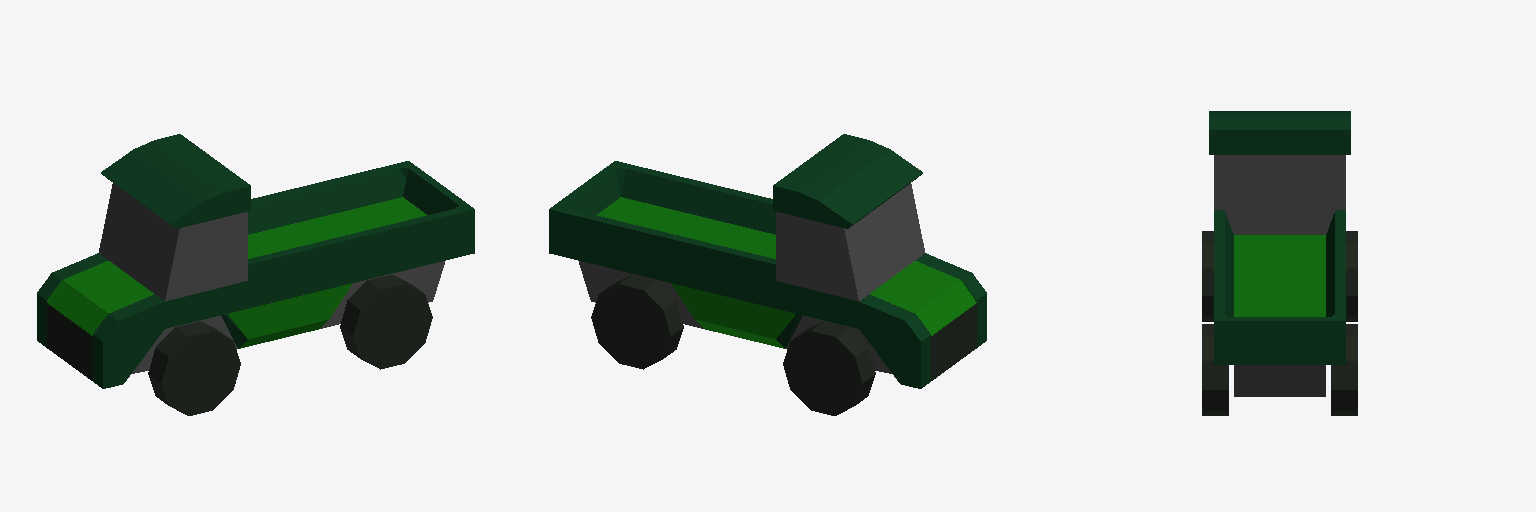
Rendered from Truck.obj.
3 renders of one model, left to right at view 1: azimuth 30°, elevation 25°; view 2: azimuth 150°, elevation 25°; view 3: azimuth 270°, elevation 25°, orthographic.
Visible parts, largest first — view 1: Truck; view 2: Truck; view 3: Truck.
Boxes of the visible parts, x1,y1,x2,y2 form: Truck: [37, 134, 474, 415]; Truck: [549, 134, 986, 415]; Truck: [1202, 111, 1357, 415].
Size of the model in its own units: 4.66 by 2.54 by 1.69.